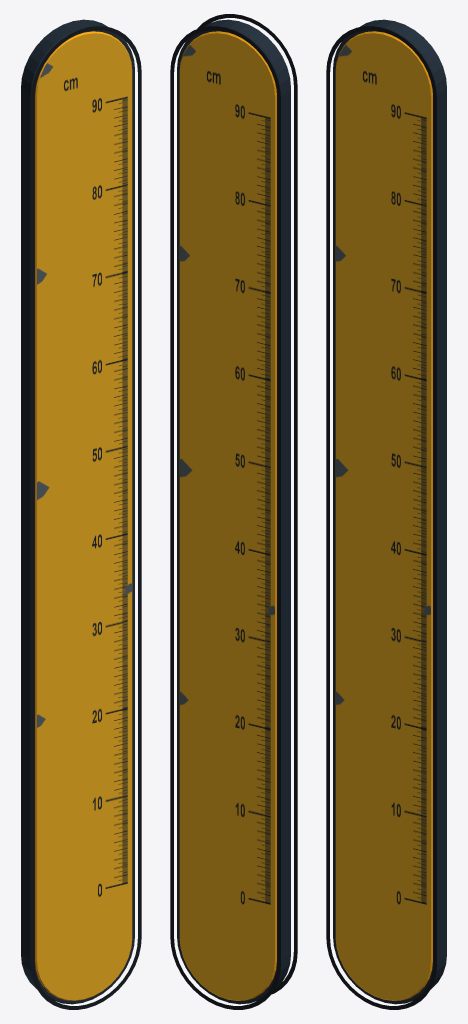
File: RulerChainsaw_Body.obj
3 views of the same model, side by side, from view 1: azimuth 30°, elevation 25°; view 2: azimuth 150°, elevation 25°; view 3: azimuth 330°, elevation 25° (orthographic).
Visible parts, largest first — view 1: RulerFace, DarkSteel, ChainSteel, YellowPlastic; view 2: RulerFace, DarkSteel, ChainSteel, YellowPlastic; view 3: RulerFace, DarkSteel, ChainSteel, YellowPlastic.
Boxes of the visible parts, x1,y1,x2,y2 form: RulerFace: (37,33,131,1000); DarkSteel: (21,19,134,1004); ChainSteel: (31,26,141,1009); YellowPlastic: (35,31,132,1000); RulerFace: (180,33,274,1000); DarkSteel: (177,19,290,1004); ChainSteel: (170,14,297,1009); YellowPlastic: (179,31,276,1000); RulerFace: (336,33,430,1000); DarkSteel: (333,19,446,1004); ChainSteel: (326,26,436,1009); YellowPlastic: (335,31,432,1000).
Size of the model in its own units: 0.146 by 1.24 by 0.038.
Materials: 4 (1 with a texture image).
